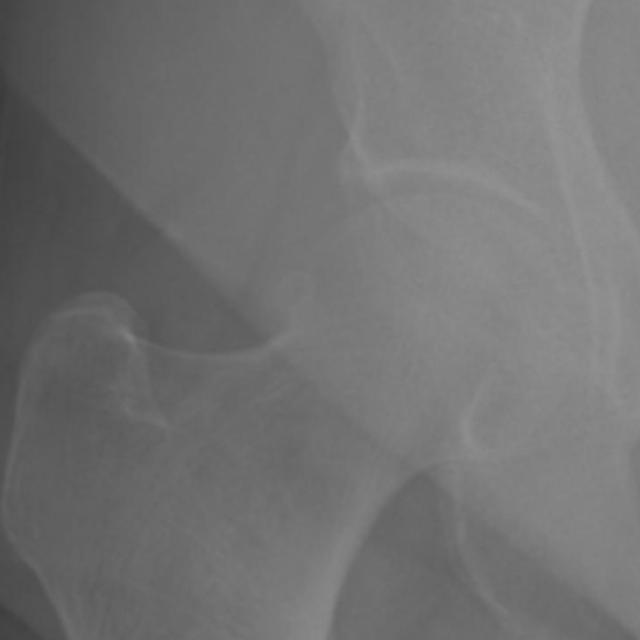Fitted_femural_head: (290, 189, 432, 290)
